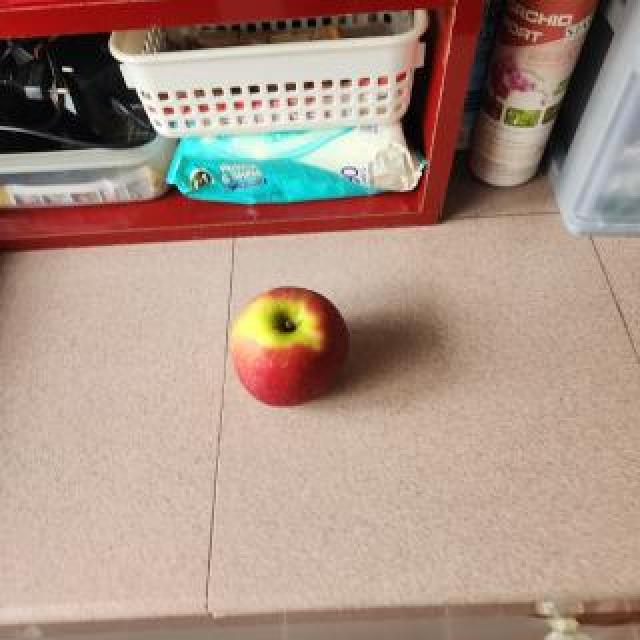Fresh Apple: (220, 278, 360, 417)
